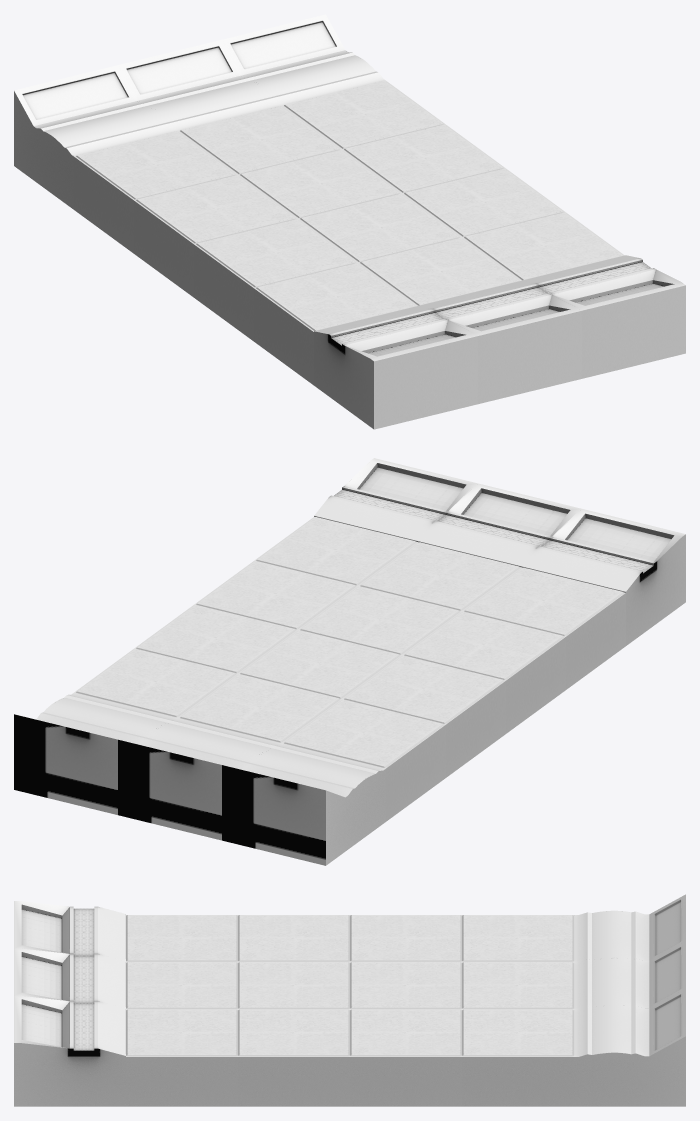
File: WallSolid_3_4.fbx
The picture shows the model from 3 angles, top to bottom: view 1: azimuth 30°, elevation 25°; view 2: azimuth 150°, elevation 25°; view 3: azimuth 270°, elevation 25°; orthographic projection. The views are drawn at different scales.
Parts seen in each view (by area): view 1: Wall_solid_3_4; view 2: Wall_solid_3_4; view 3: Wall_solid_3_4.
Part boxes in pixels (x1=…): Wall_solid_3_4: x1=14, y1=14, x2=685, y2=429; Wall_solid_3_4: x1=14, y1=458, x2=685, y2=865; Wall_solid_3_4: x1=14, y1=894, x2=685, y2=1106.
Bounding box in the file's own units: 3 × 0.6947 × 6.
